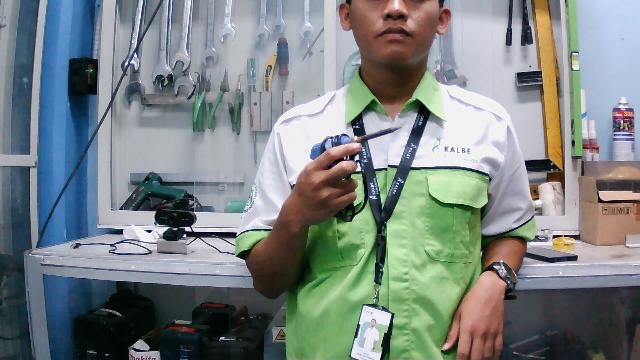solder_electrical: (307, 117, 404, 225)
